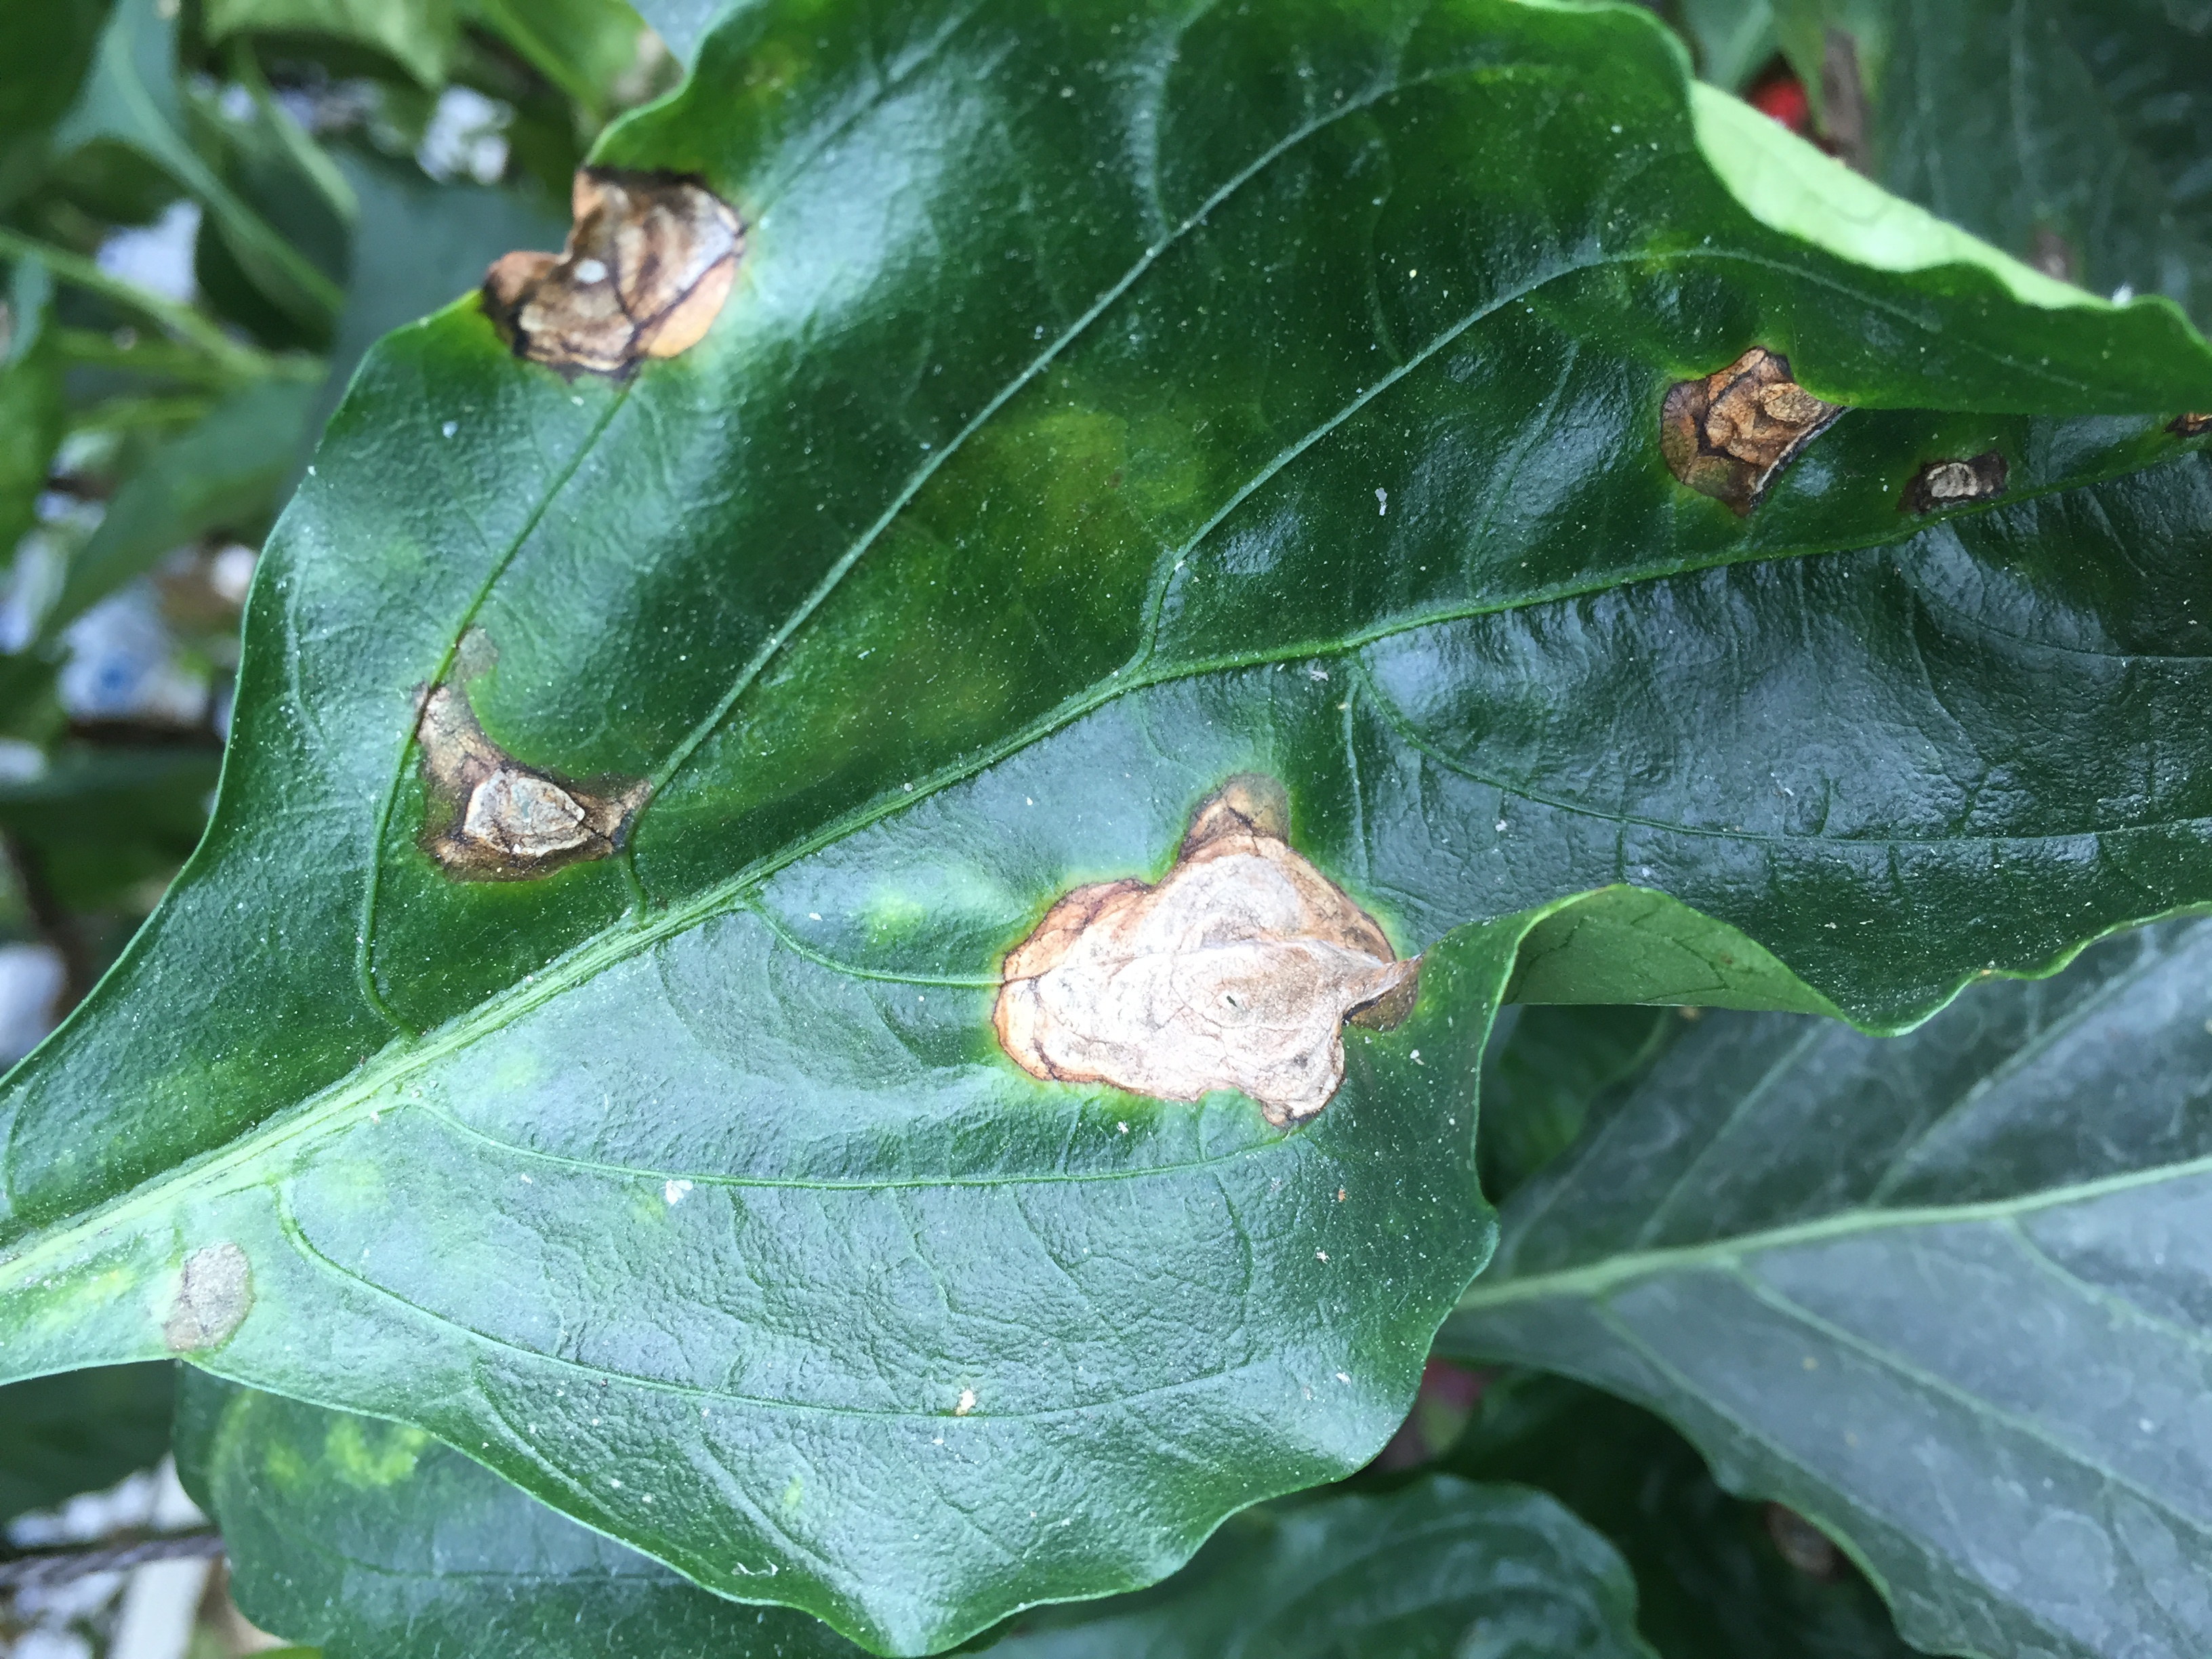spotting_disease: (977, 746, 1437, 1147), (392, 627, 676, 903), (465, 146, 758, 382), (1625, 326, 1867, 530), (153, 1232, 280, 1373), (1874, 439, 2027, 533)
